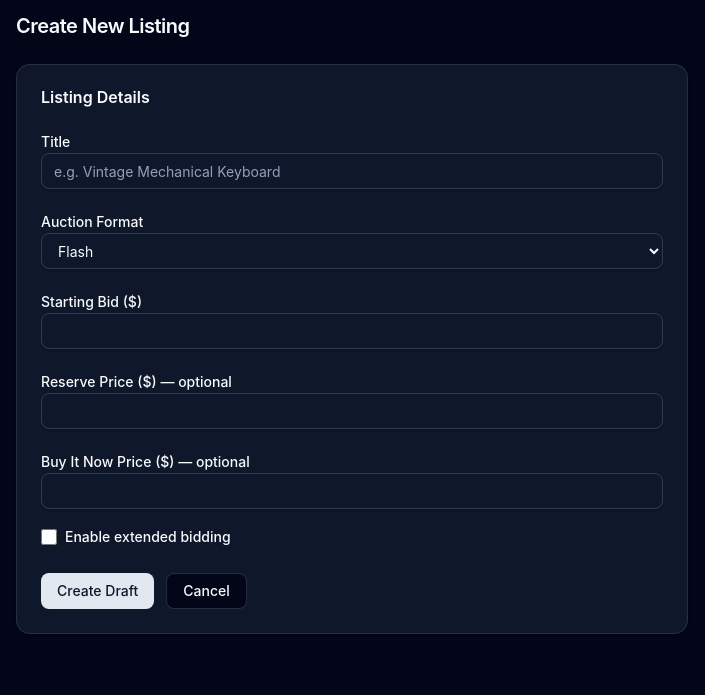
Test: CreateListingPage › shows validation errors when submitting with empty required fields
This screenshot has width=705, height=695.
Expected: the field labelled "Title" is shown, 41,153 -> 663,189
Click the button "Create Draft": (98, 591) 41,573 -> 154,609
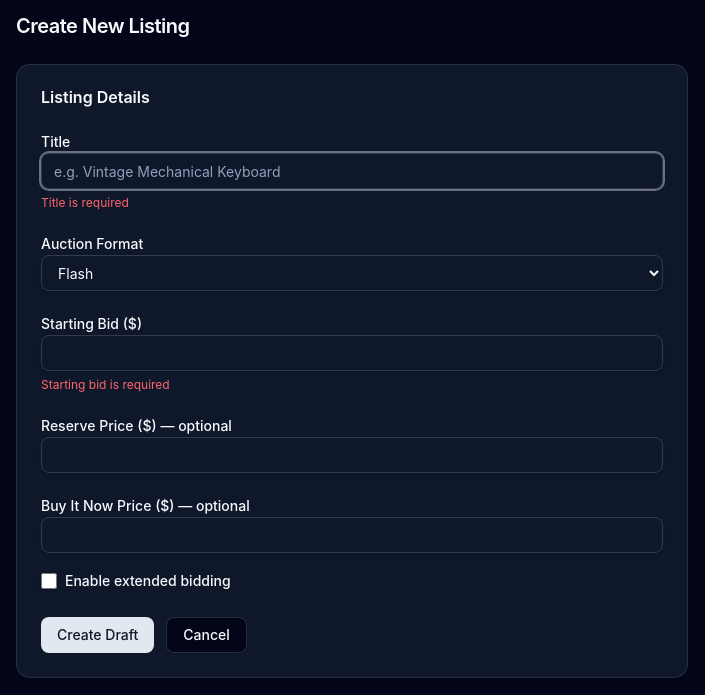
Now the text "Title is required" is shown, box 41,195 -> 129,210
Now the text "Starting bid is required" is shown, box 41,377 -> 170,392
